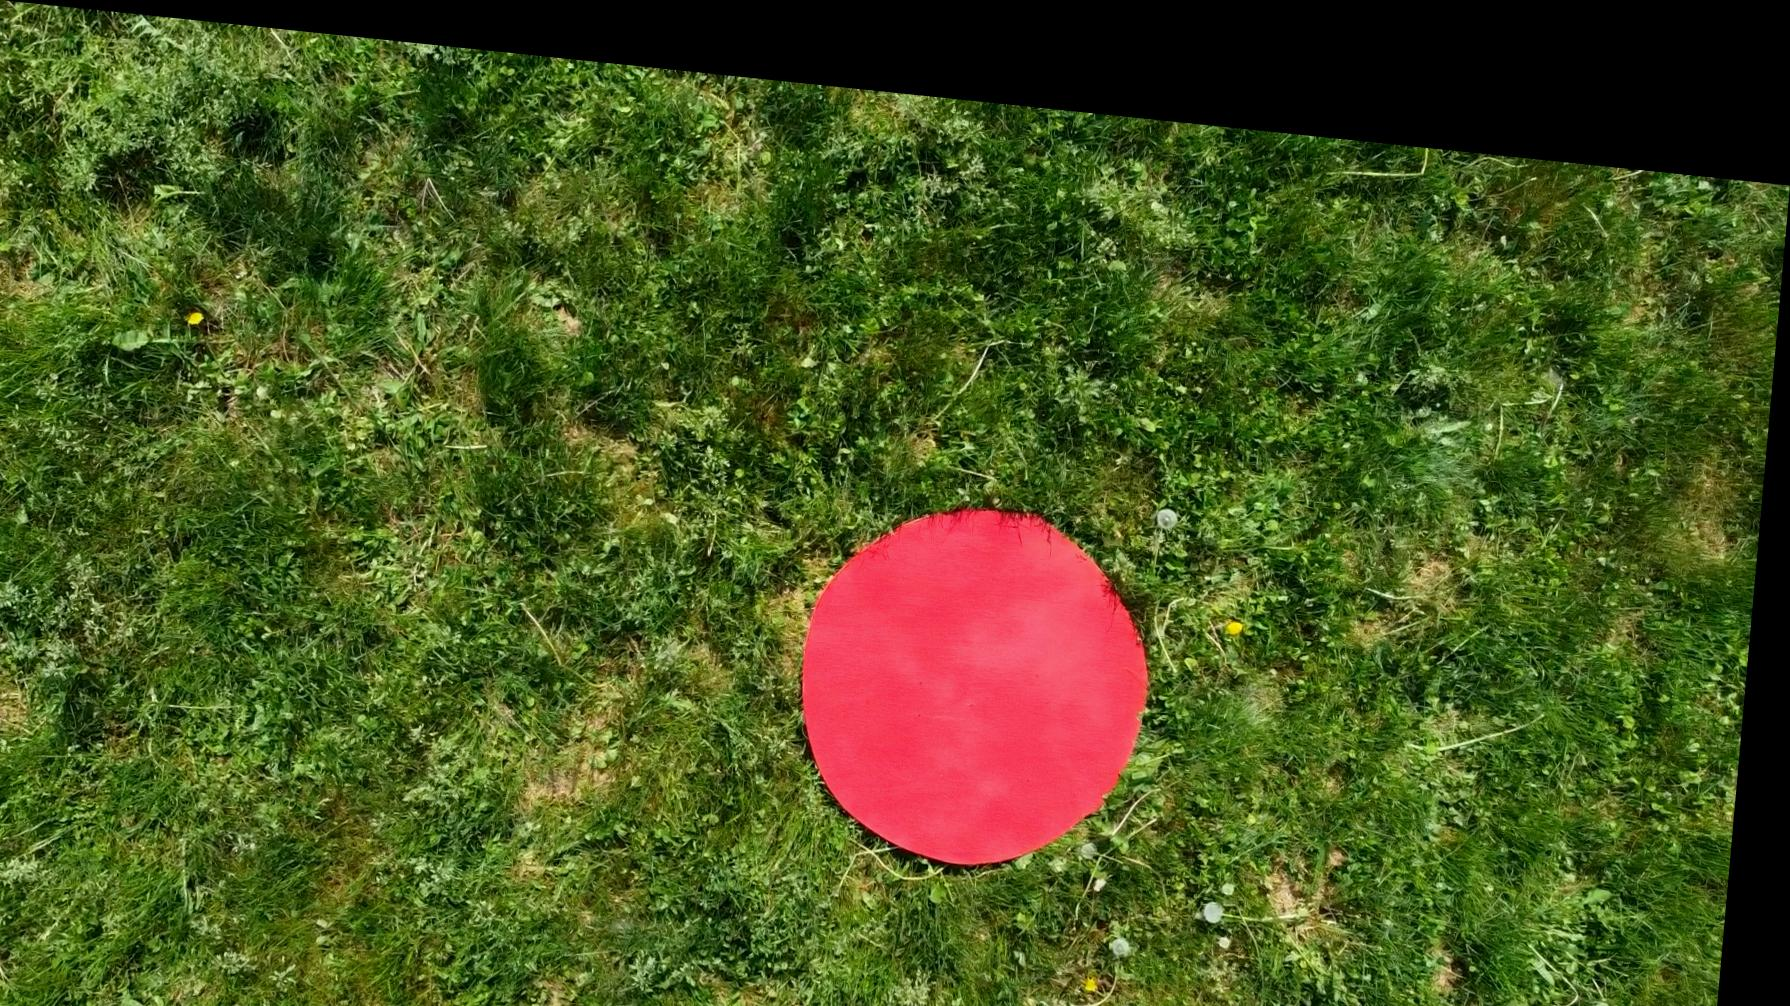Red: (792, 461, 1178, 869)
